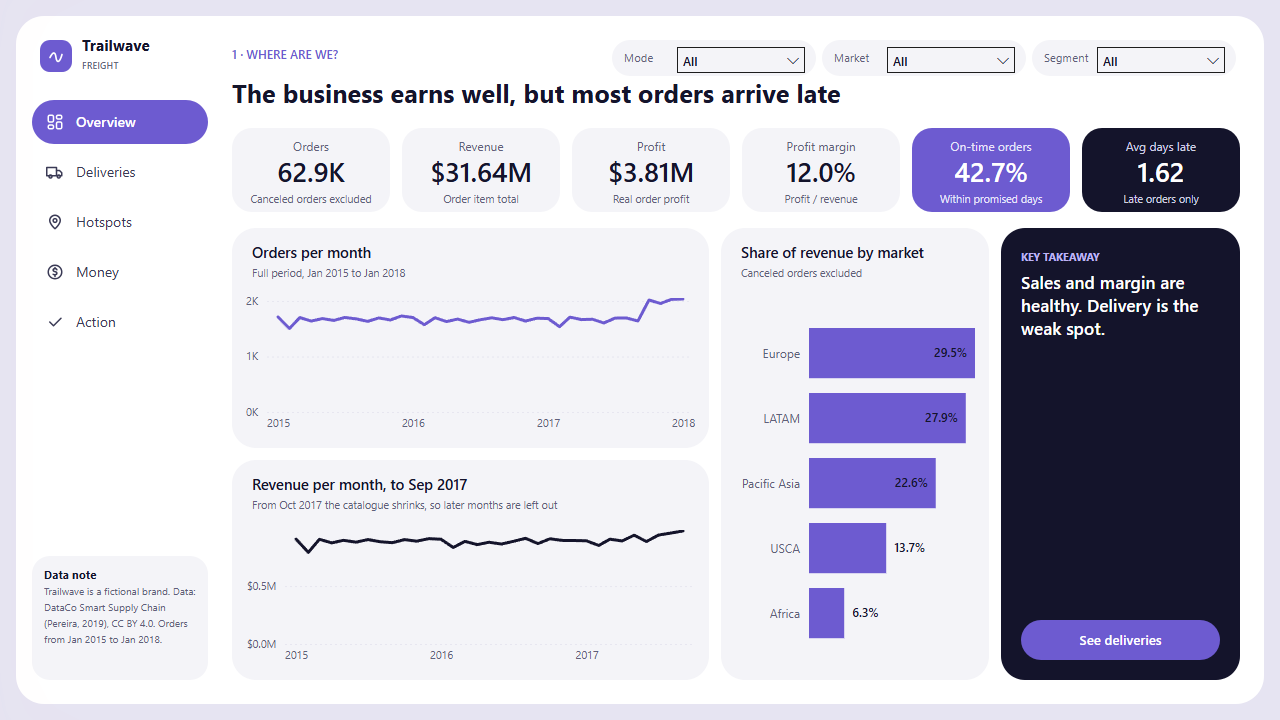

Layout of this report page (visuals, bound fields, positions):
{"tool":"powerbi","page":{"name":"Overview","canvas":[1280,720],"ordinal":0},"visuals":[{"type":"textbox","box":[82,34,130,28],"z":1100},{"type":"textbox","box":[82,56,130,20],"z":1200},{"type":"textbox","box":[76,112,120,20],"z":1300},{"type":"textbox","box":[76,162,120,20],"z":1400},{"type":"textbox","box":[76,212,120,20],"z":1500},{"type":"textbox","box":[76,262,120,20],"z":1600},{"type":"textbox","box":[76,312,120,20],"z":1700},{"type":"textbox","box":[44,566,152,108],"z":1800},{"type":"textbox","box":[232,46,370,18],"z":1900},{"type":"textbox","box":[232,76,1008,36],"z":2000},{"type":"textbox","box":[624,49,52,18],"z":2100},{"type":"slicer","fields":{"Values":["dim_shipping_mode.shipping_mode"]},"box":[672,42,138,32],"z":2200},{"type":"textbox","box":[834,49,52,18],"z":2300},{"type":"slicer","fields":{"Values":["dim_geography.market"]},"box":[882,42,138,32],"z":2400},{"type":"textbox","box":[1044,49,52,18],"z":2500},{"type":"slicer","fields":{"Values":["dim_customer.customer_segment"]},"box":[1092,42,138,32],"z":2600},{"type":"textbox","box":[242,138,138,18],"z":2700},{"type":"card","fields":{"Values":["_Measures.Orders"]},"box":[238,156,146,34],"z":2800},{"type":"textbox","box":[242,190,138,16],"z":2900},{"type":"textbox","box":[412,138,138,18],"z":3000},{"type":"card","fields":{"Values":["_Measures.Revenue"]},"box":[408,156,146,34],"z":3100},{"type":"textbox","box":[412,190,138,16],"z":3200},{"type":"textbox","box":[582,138,138,18],"z":3300},{"type":"card","fields":{"Values":["_Measures.Profit"]},"box":[578,156,146,34],"z":3400},{"type":"textbox","box":[582,190,138,16],"z":3500},{"type":"textbox","box":[752,138,138,18],"z":3600},{"type":"card","fields":{"Values":["_Measures.Profit Margin %"]},"box":[748,156,146,34],"z":3700},{"type":"textbox","box":[752,190,138,16],"z":3800},{"type":"textbox","box":[922,138,138,18],"z":3900},{"type":"card","fields":{"Values":["_Measures.On-Time %"]},"box":[918,156,146,34],"z":4000},{"type":"textbox","box":[922,190,138,16],"z":4100},{"type":"textbox","box":[1092,138,138,18],"z":4200},{"type":"card","fields":{"Values":["_Measures.Avg Days Late"]},"box":[1088,156,146,34],"z":4300},{"type":"textbox","box":[1092,190,138,16],"z":4400},{"type":"textbox","box":[252,242,437,22],"z":4500},{"type":"textbox","box":[252,264,437,18],"z":4600},{"type":"lineChart","fields":{"Category":["dim_date.month_start"],"Y":["_Measures.Orders"]},"box":[242,286,457,154],"z":4700},{"type":"textbox","box":[252,474,437,22],"z":4800},{"type":"textbox","box":[252,496,437,18],"z":4900},{"type":"lineChart","fields":{"Category":["dim_date.month_start"],"Y":["_Measures.Revenue to Sep 2017"]},"box":[242,518,457,154],"z":5000},{"type":"textbox","box":[741,242,228,22],"z":5100},{"type":"textbox","box":[741,264,228,18],"z":5200},{"type":"clusteredBarChart","fields":{"Category":["dim_geography.market"],"Y":["_Measures.Revenue Share %"]},"box":[731,290,248,380],"z":5300},{"type":"textbox","box":[1021,248,199,18],"z":5400},{"type":"textbox","box":[1021,270,199,342],"z":5500},{"type":"textbox","box":[1021,631,199,20],"z":5600},{"type":"actionButton","box":[1021,620,199,40],"z":5700},{"type":"actionButton","box":[32,100,176,44],"z":5800},{"type":"actionButton","box":[32,150,176,44],"z":5900},{"type":"actionButton","box":[32,200,176,44],"z":6000},{"type":"actionButton","box":[32,250,176,44],"z":6100},{"type":"actionButton","box":[32,300,176,44],"z":6200}]}

Visuals, with their boxes on the page's 1280x720 design canvas (x1, y1, x2, y2). These are canvas units, not pixel positions in the 1280x720 screenshot, which may show the page scaled, cropped or inside an application window:
textbox: bbox=(82, 34, 212, 62)
textbox: bbox=(82, 56, 212, 76)
textbox: bbox=(76, 112, 196, 132)
textbox: bbox=(76, 162, 196, 182)
textbox: bbox=(76, 212, 196, 232)
textbox: bbox=(76, 262, 196, 282)
textbox: bbox=(76, 312, 196, 332)
textbox: bbox=(44, 566, 196, 674)
textbox: bbox=(232, 46, 602, 64)
textbox: bbox=(232, 76, 1240, 112)
textbox: bbox=(624, 49, 676, 67)
slicer - dim_shipping_mode.shipping_mode: bbox=(672, 42, 810, 74)
textbox: bbox=(834, 49, 886, 67)
slicer - dim_geography.market: bbox=(882, 42, 1020, 74)
textbox: bbox=(1044, 49, 1096, 67)
slicer - dim_customer.customer_segment: bbox=(1092, 42, 1230, 74)
textbox: bbox=(242, 138, 380, 156)
card - _Measures.Orders: bbox=(238, 156, 384, 190)
textbox: bbox=(242, 190, 380, 206)
textbox: bbox=(412, 138, 550, 156)
card - _Measures.Revenue: bbox=(408, 156, 554, 190)
textbox: bbox=(412, 190, 550, 206)
textbox: bbox=(582, 138, 720, 156)
card - _Measures.Profit: bbox=(578, 156, 724, 190)
textbox: bbox=(582, 190, 720, 206)
textbox: bbox=(752, 138, 890, 156)
card - _Measures.Profit Margin %: bbox=(748, 156, 894, 190)
textbox: bbox=(752, 190, 890, 206)
textbox: bbox=(922, 138, 1060, 156)
card - _Measures.On-Time %: bbox=(918, 156, 1064, 190)
textbox: bbox=(922, 190, 1060, 206)
textbox: bbox=(1092, 138, 1230, 156)
card - _Measures.Avg Days Late: bbox=(1088, 156, 1234, 190)
textbox: bbox=(1092, 190, 1230, 206)
textbox: bbox=(252, 242, 689, 264)
textbox: bbox=(252, 264, 689, 282)
lineChart - dim_date.month_start x _Measures.Orders: bbox=(242, 286, 699, 440)
textbox: bbox=(252, 474, 689, 496)
textbox: bbox=(252, 496, 689, 514)
lineChart - dim_date.month_start x _Measures.Revenue to Sep 2017: bbox=(242, 518, 699, 672)
textbox: bbox=(741, 242, 969, 264)
textbox: bbox=(741, 264, 969, 282)
clusteredBarChart - dim_geography.market x _Measures.Revenue Share %: bbox=(731, 290, 979, 670)
textbox: bbox=(1021, 248, 1220, 266)
textbox: bbox=(1021, 270, 1220, 612)
textbox: bbox=(1021, 631, 1220, 651)
actionButton: bbox=(1021, 620, 1220, 660)
actionButton: bbox=(32, 100, 208, 144)
actionButton: bbox=(32, 150, 208, 194)
actionButton: bbox=(32, 200, 208, 244)
actionButton: bbox=(32, 250, 208, 294)
actionButton: bbox=(32, 300, 208, 344)
